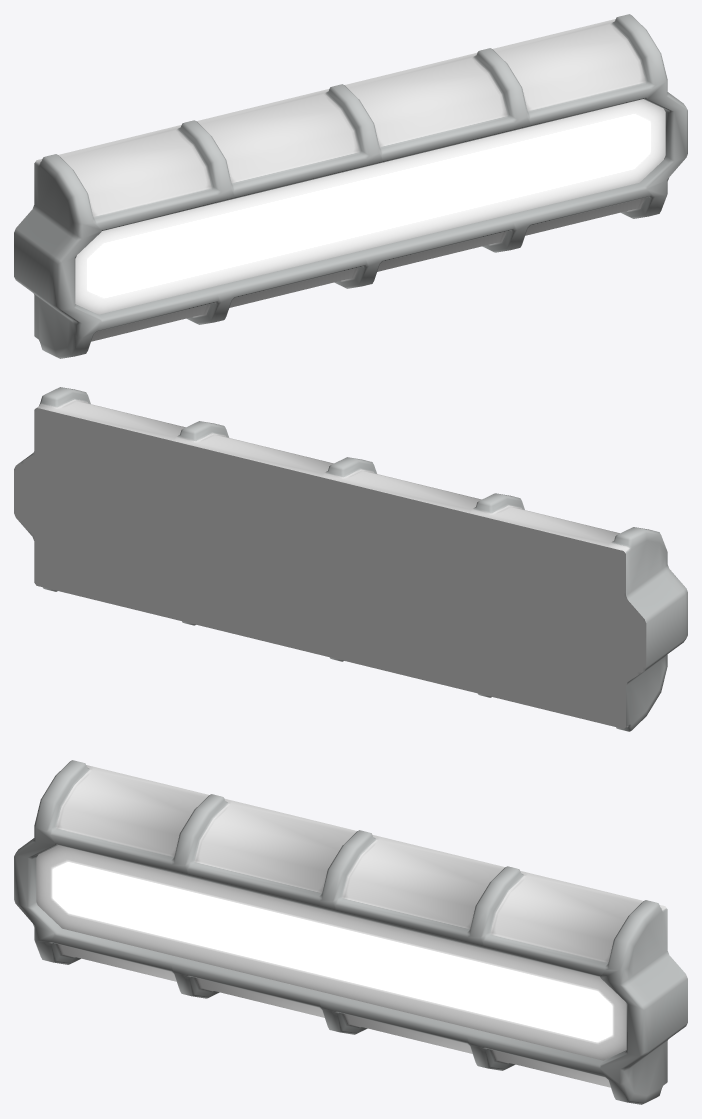
Rendered from LampWall01_1.FBX.
3 views of the same model, one above another, from view 1: azimuth 30°, elevation 25°; view 2: azimuth 150°, elevation 25°; view 3: azimuth 330°, elevation 25° (orthographic).
Visible parts, largest first — view 1: LampWall01_1; view 2: LampWall01_1; view 3: LampWall01_1.
Part boxes in pixels (x1,y1,x2,y2): LampWall01_1: (14,14,687,358); LampWall01_1: (14,387,687,731); LampWall01_1: (14,760,687,1104).
Size of what is drawn, in the model's own units: 0.8583 by 0.2533 by 0.1039.
